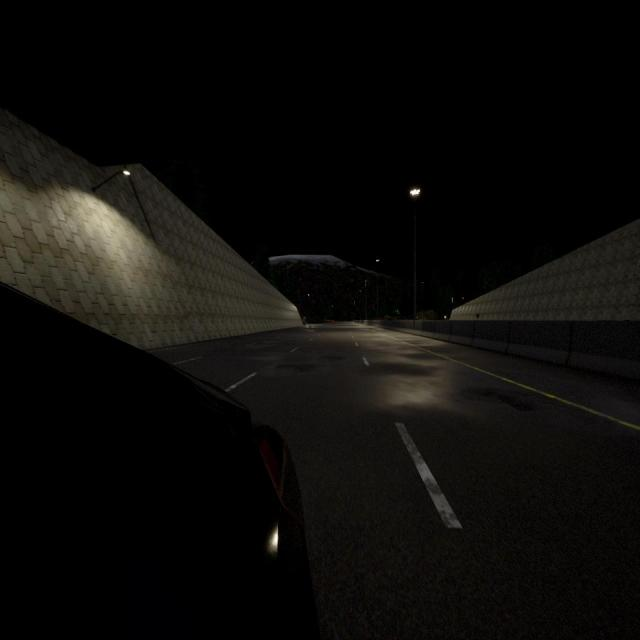Traffic_Signs: (476, 312, 480, 319), (303, 316, 306, 320), (444, 315, 447, 319)
Vehicle: (0, 280, 324, 640)
